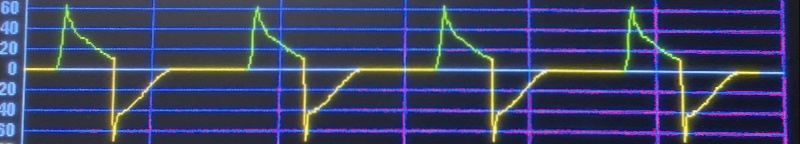normal_flow: (29, 1, 745, 144)
